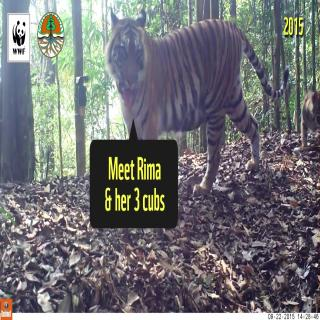Tiger: (102, 6, 265, 135)
